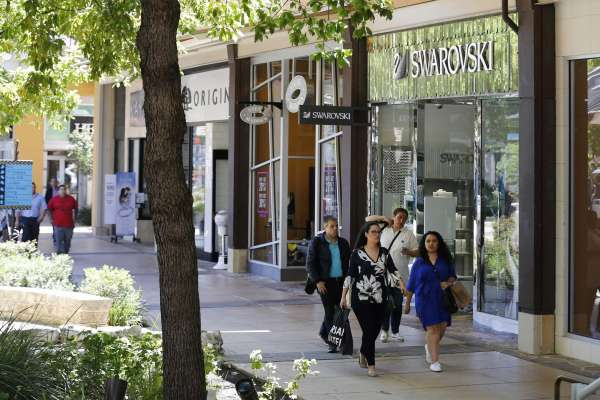Person: (339, 222, 408, 377), (405, 231, 471, 373), (365, 208, 420, 343), (304, 215, 353, 354), (48, 185, 79, 253)
